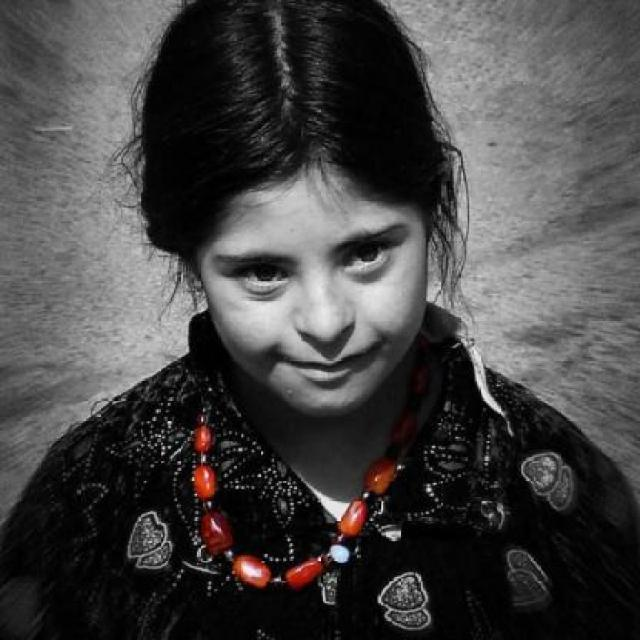awake: (240, 261, 288, 288), (343, 243, 386, 268)
